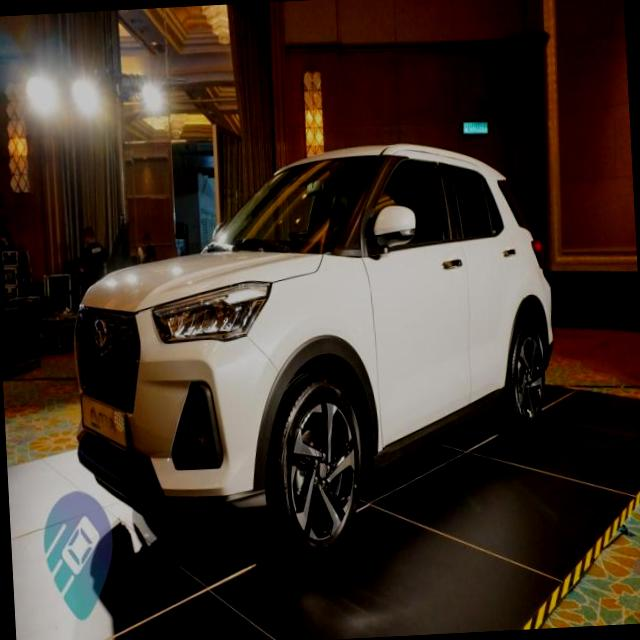PeroduaAtiva: (61, 133, 567, 567)
